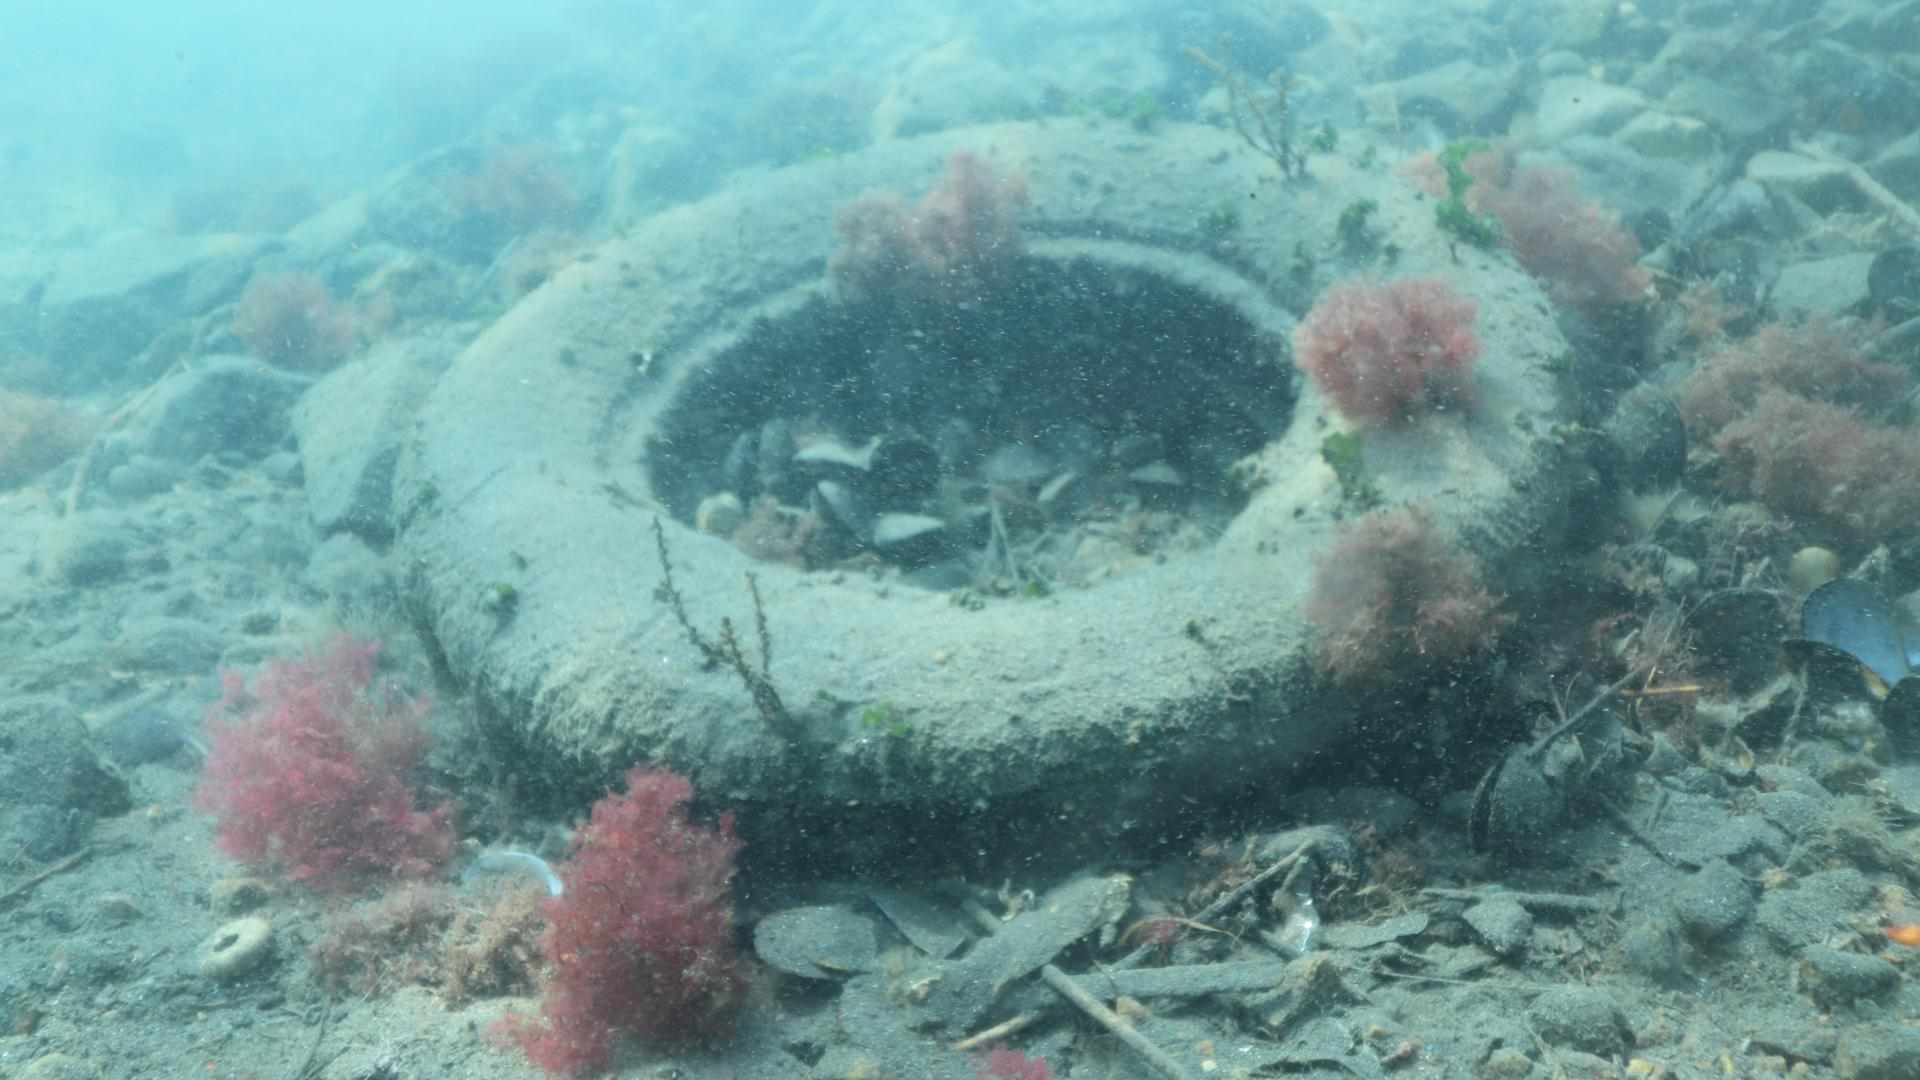tire: (386, 119, 1577, 890)
